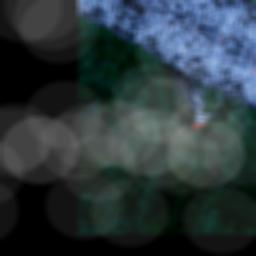Woodpecker: (145, 58, 227, 139)
